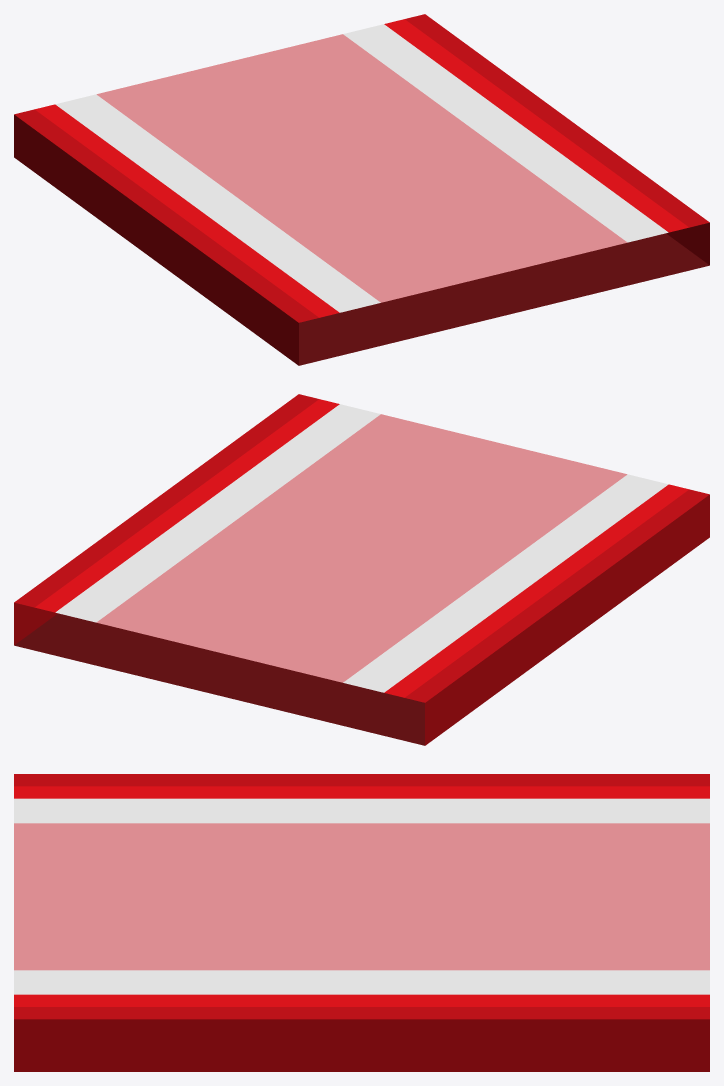
File: straightFl.fbx
The picture shows the model from 3 angles, top to bottom: view 1: azimuth 30°, elevation 25°; view 2: azimuth 150°, elevation 25°; view 3: azimuth 270°, elevation 25°; orthographic projection. The views are drawn at different scales.
Visible parts, largest first — view 1: StraightFlat; view 2: StraightFlat; view 3: StraightFlat.
Part boxes in pixels (bbox=[...]): StraightFlat: bbox=[14, 14, 709, 365]; StraightFlat: bbox=[14, 394, 709, 745]; StraightFlat: bbox=[14, 774, 709, 1071].
Size of the model in its own units: 10 by 1 by 12.
